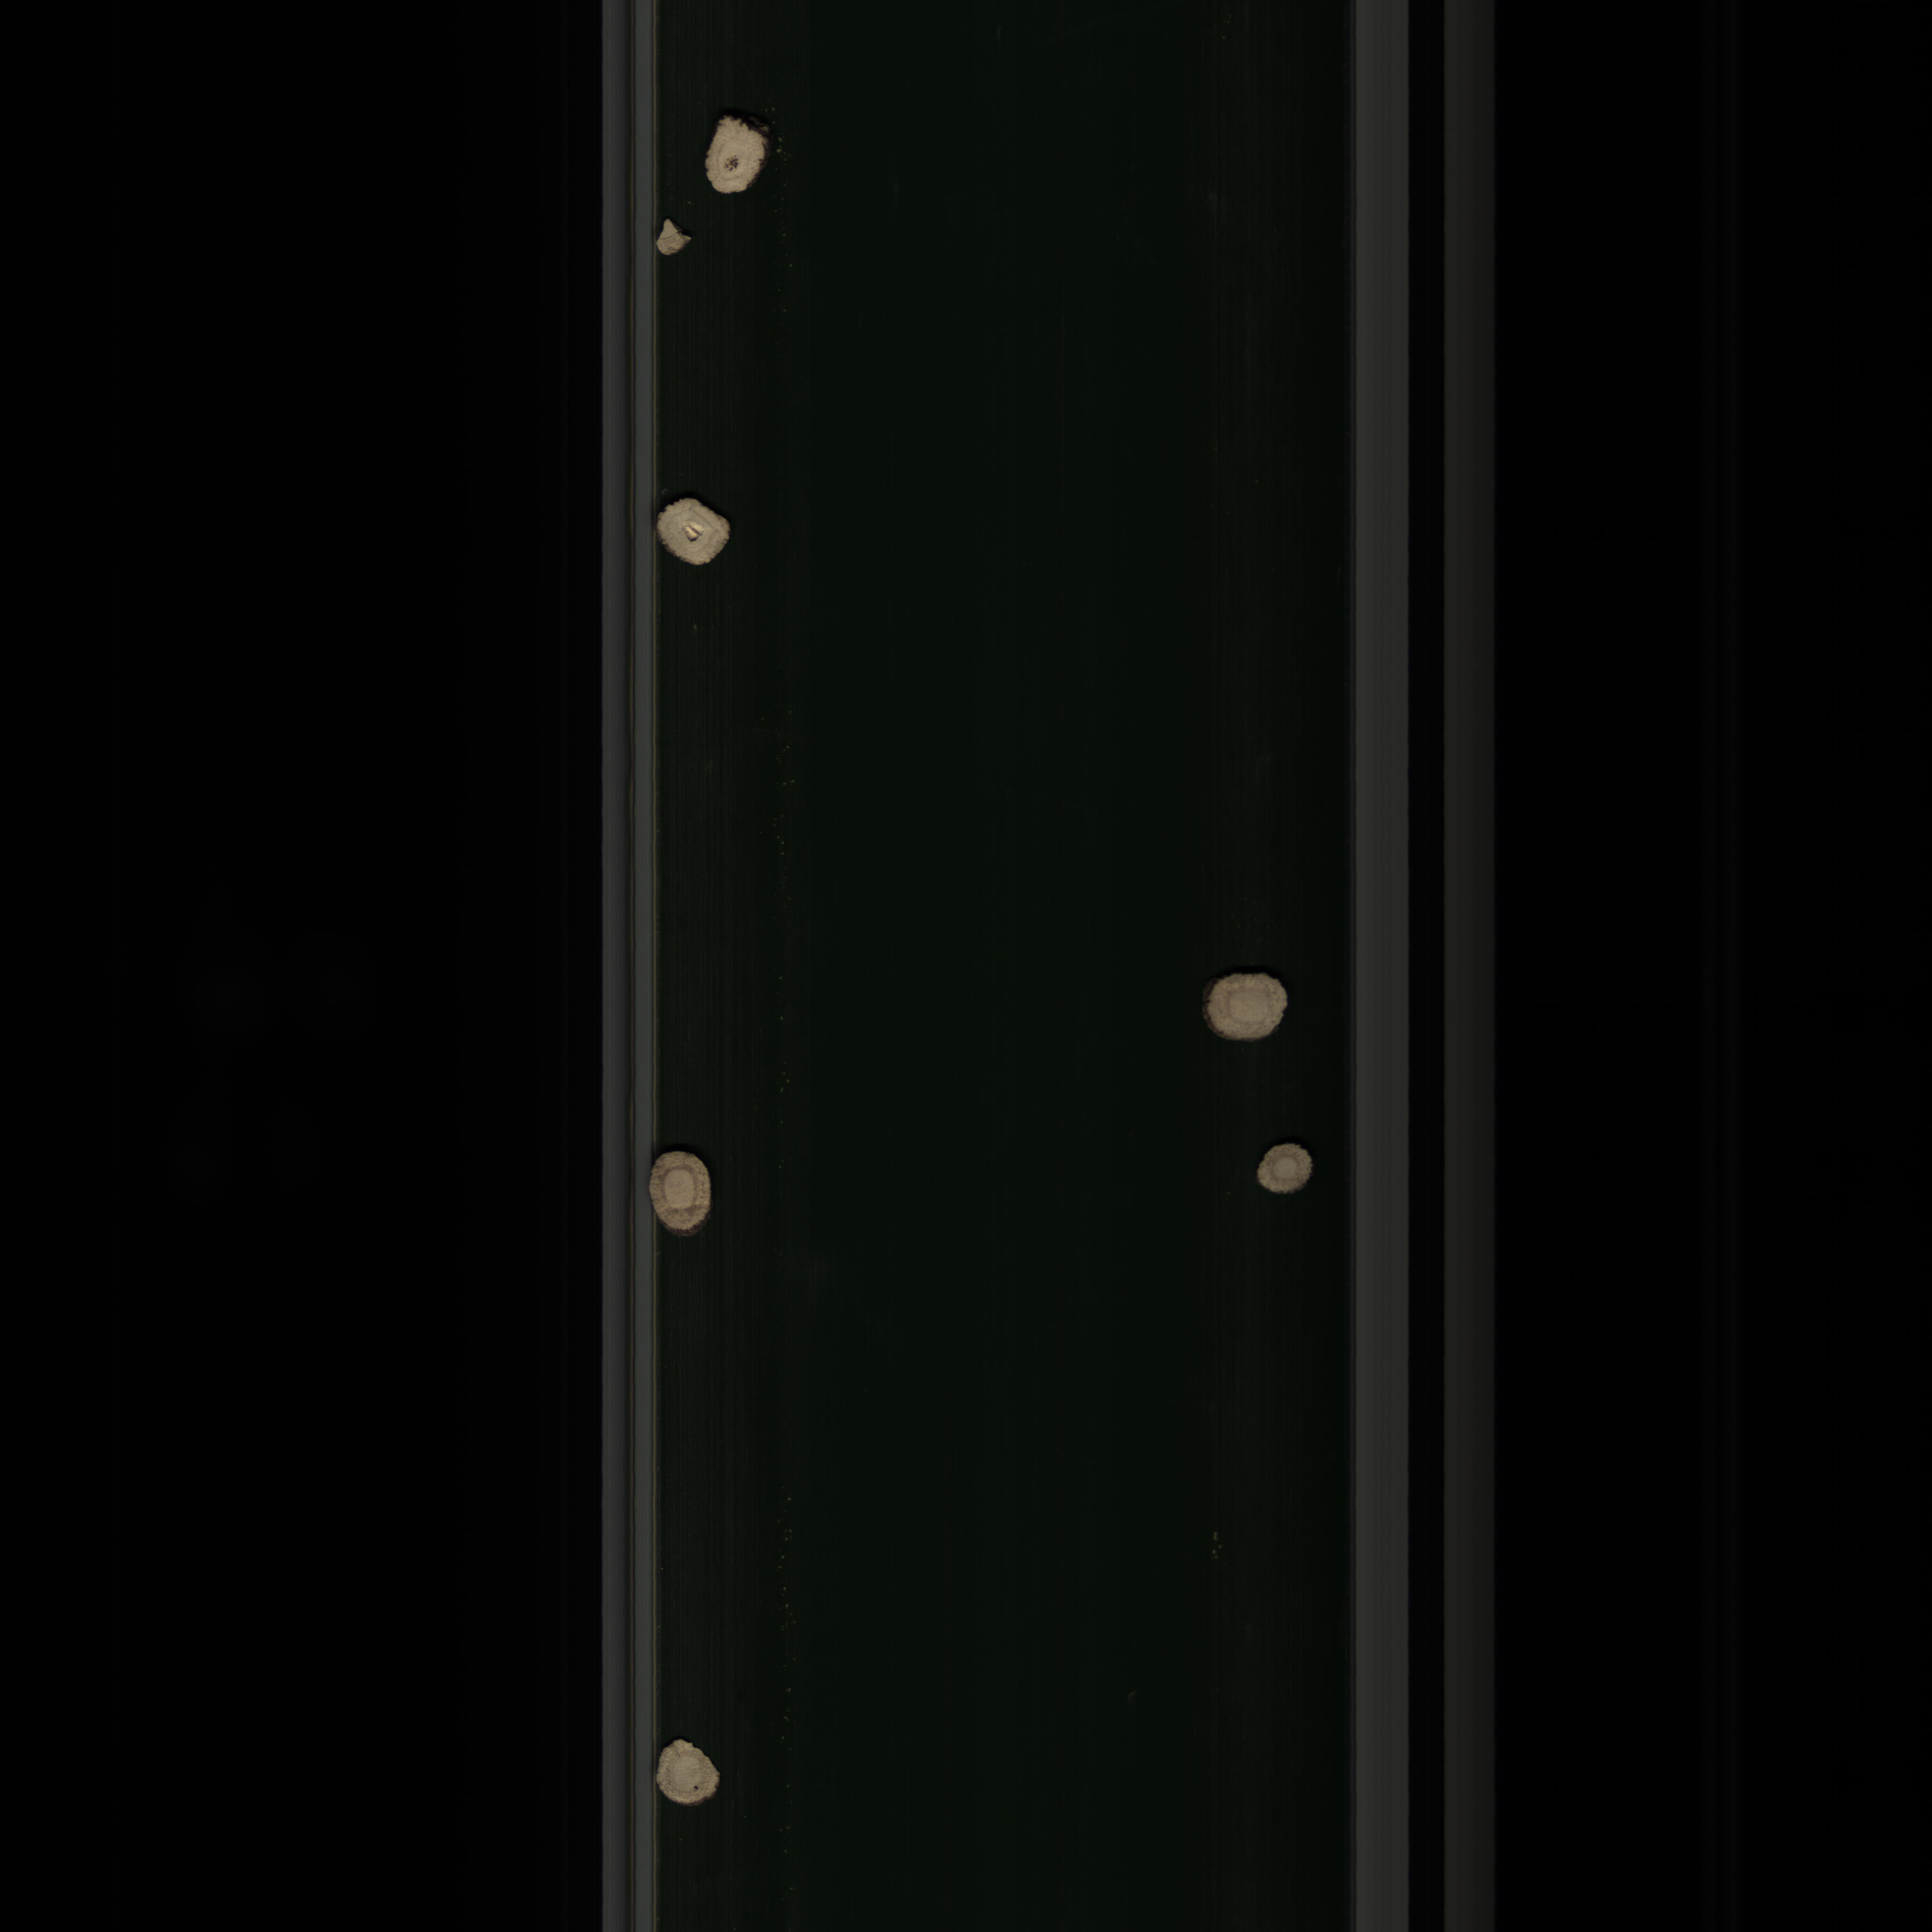bark: (649, 212, 699, 264)
hole: (653, 487, 738, 579)
moldy: (690, 108, 777, 209)
